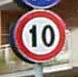limite 10: (11, 9, 65, 62)
